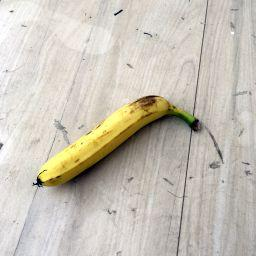Banana Ripe: (31, 91, 201, 190)
